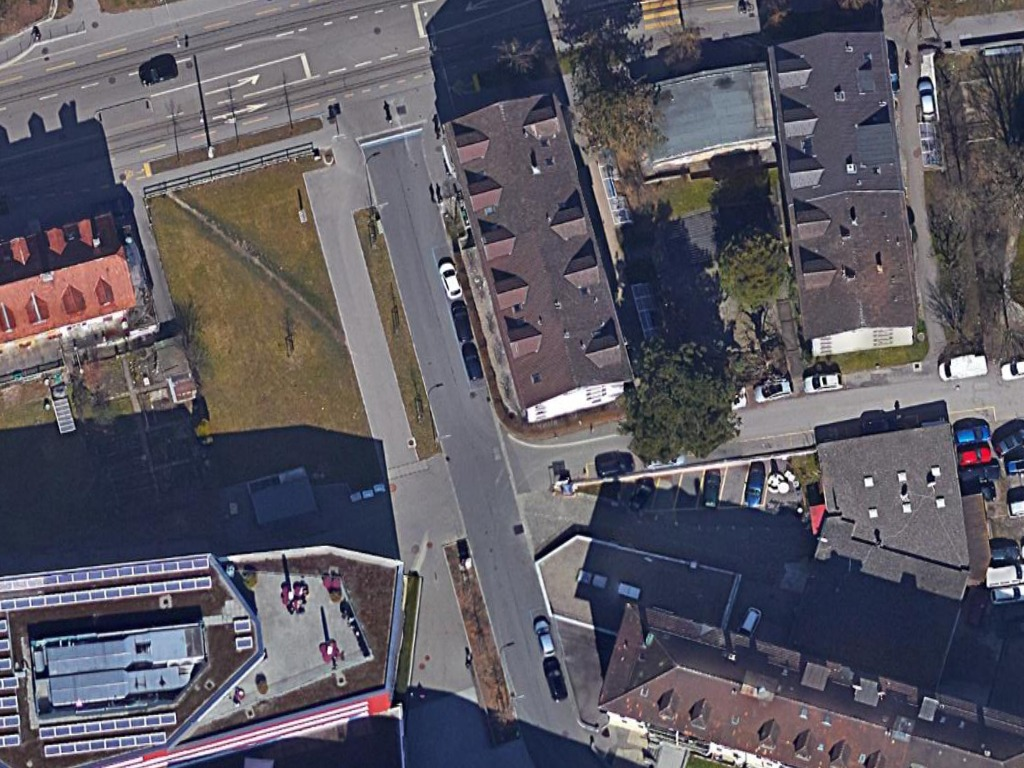car: (531, 613, 560, 661), (437, 257, 466, 304), (799, 371, 845, 397), (741, 465, 765, 512), (952, 422, 993, 448), (916, 78, 936, 125)
van: (934, 351, 991, 384)
